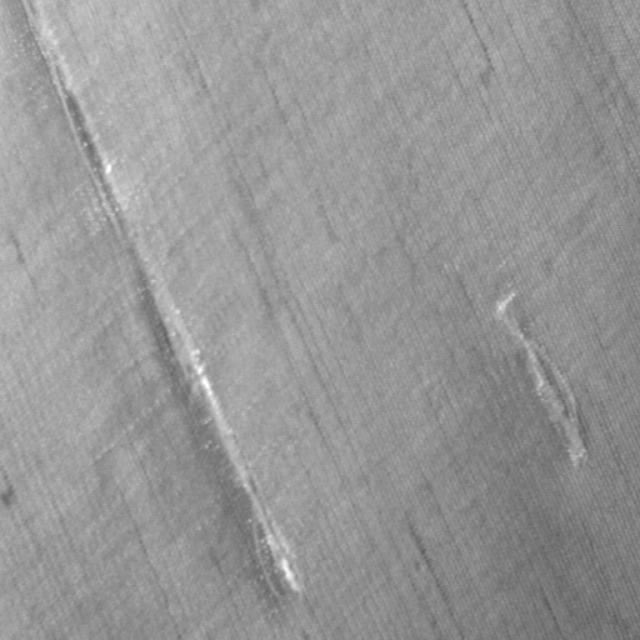hole: (14, 0, 308, 615), (489, 284, 591, 478)
